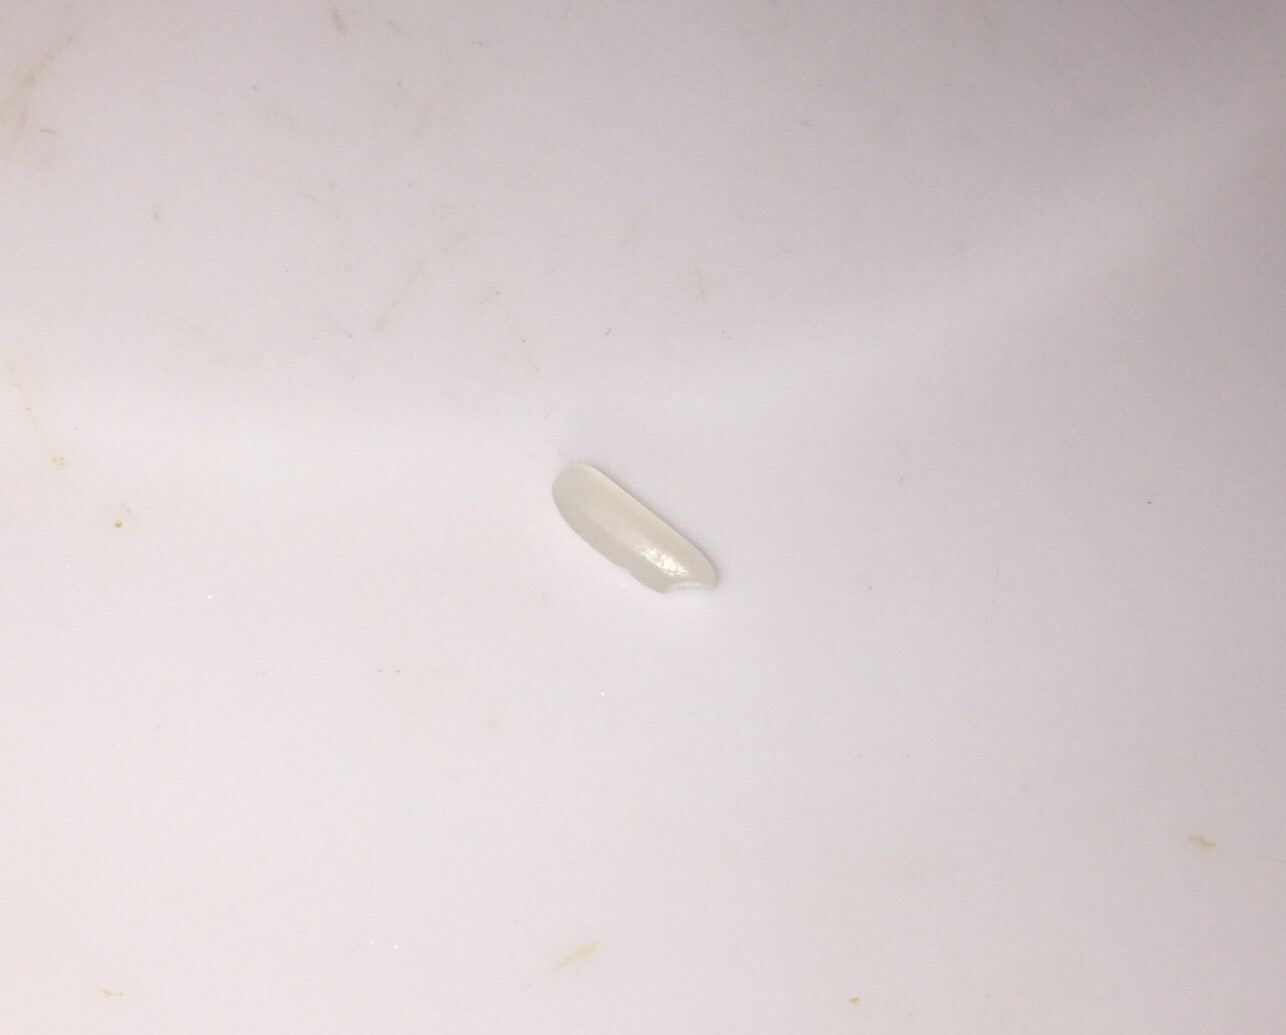Gao Ngoc Troi: (529, 432, 732, 614)
